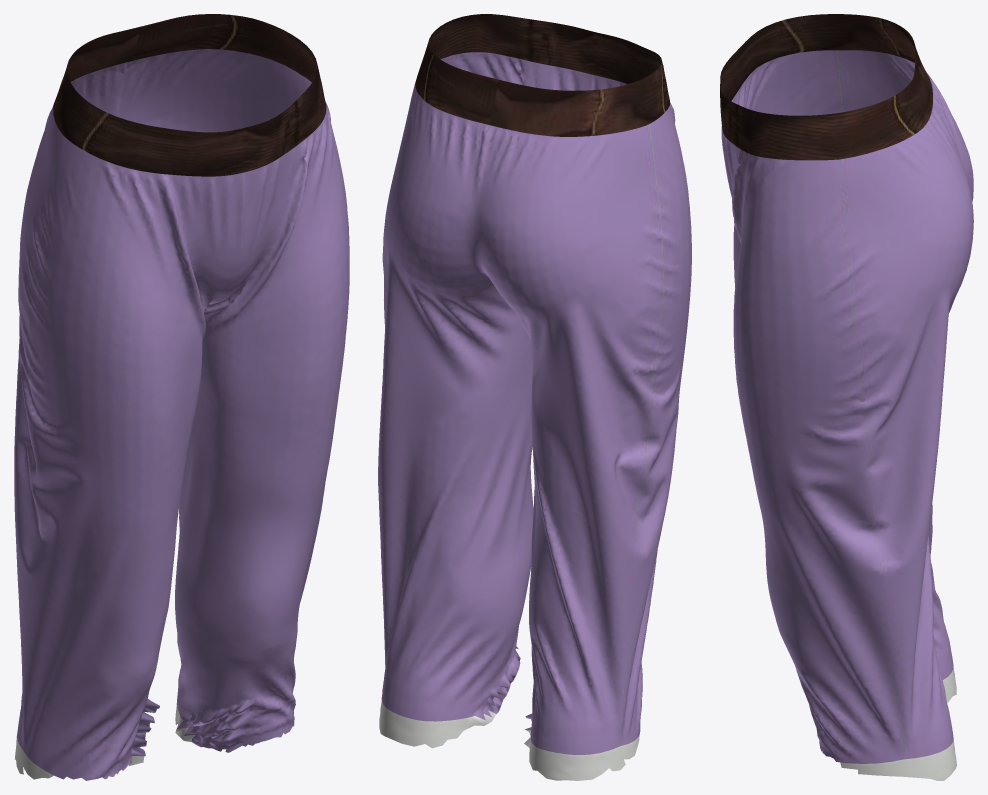
File: female_purple_trouser_30.glb
The picture shows the model from 3 angles, left to right: view 1: azimuth 30°, elevation 25°; view 2: azimuth 150°, elevation 25°; view 3: azimuth 270°, elevation 25°; orthographic projection. The views are drawn at different scales.
Visible parts, largest first — view 1: casual_trousers_2_woman_ref.001; view 2: casual_trousers_2_woman_ref.001; view 3: casual_trousers_2_woman_ref.001.
Boxes of the visible parts, bbox=[...] form: casual_trousers_2_woman_ref.001: bbox=[14, 14, 349, 780]; casual_trousers_2_woman_ref.001: bbox=[378, 14, 691, 780]; casual_trousers_2_woman_ref.001: bbox=[720, 14, 973, 780].
Size of the model in its own units: 0.373 by 0.877 by 0.3.
6 materials, 6 textured.
